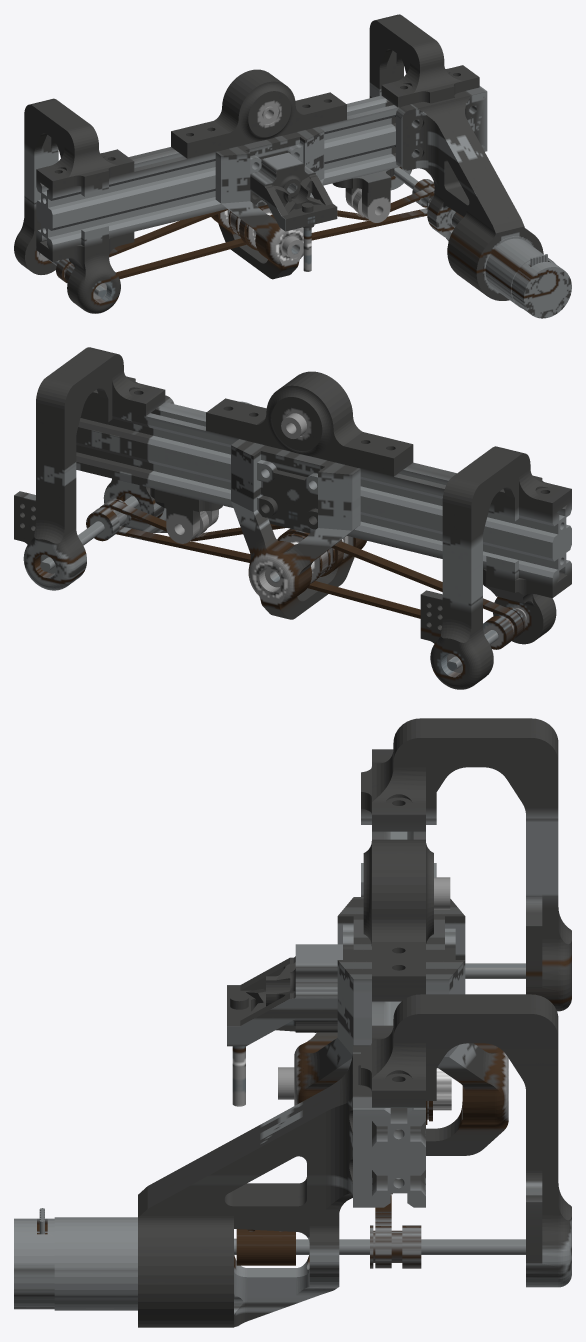
File: Rocker.dae
3 views of the same model, one above another, from view 1: azimuth 30°, elevation 25°; view 2: azimuth 150°, elevation 25°; view 3: azimuth 270°, elevation 25° (orthographic). The views are drawn at different scales.
Visible parts, largest first — view 1: node; view 2: node; view 3: node.
Part boxes in pixels (bbox=[...]): node: bbox=[14, 14, 571, 318]; node: bbox=[14, 347, 571, 689]; node: bbox=[14, 718, 571, 1327].
Size of the model in its own units: 0.3 by 0.1386 by 0.2063.
Materials: 1 (1 with a texture image).
